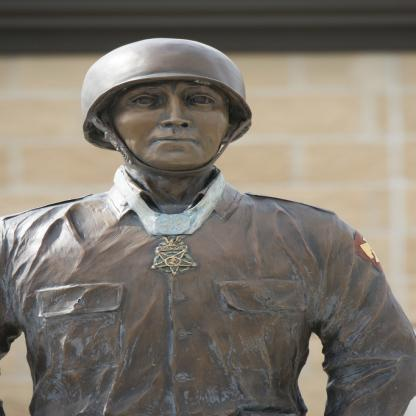Helmet: (76, 36, 261, 181)
